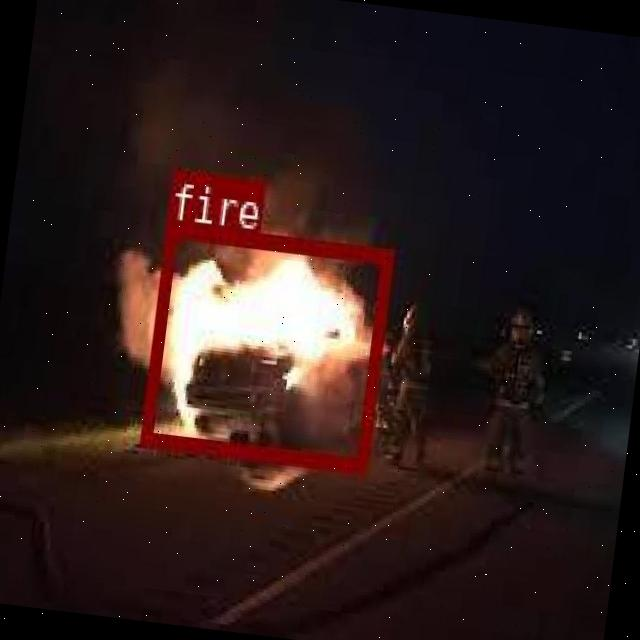fire: (138, 218, 392, 471)
